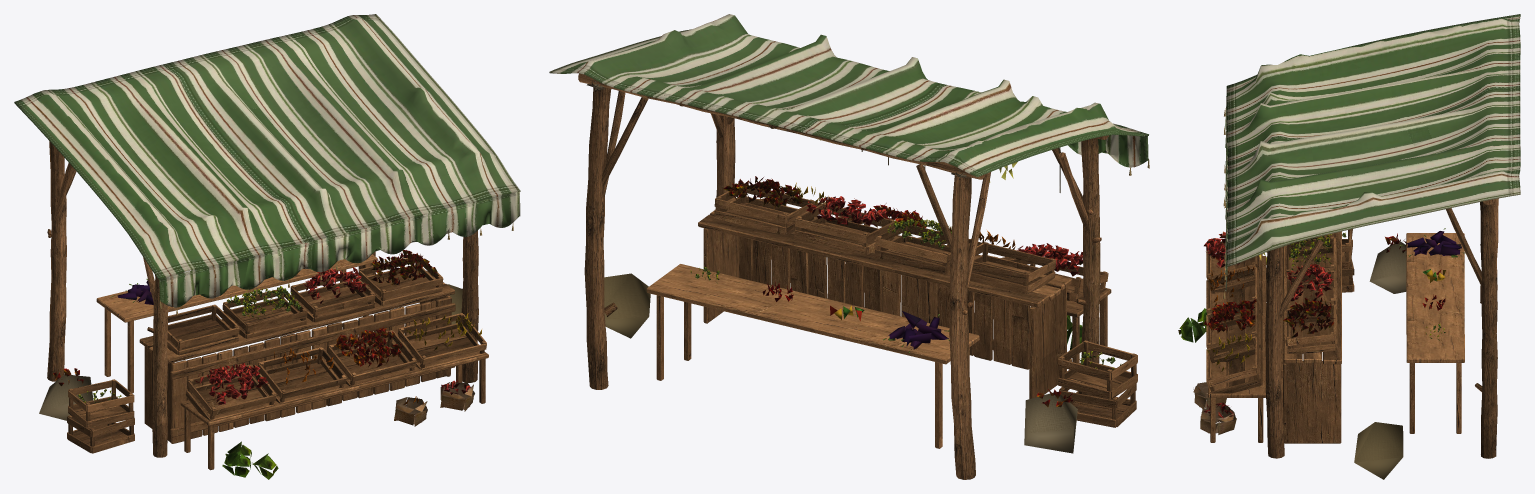
File: village-kiosk-4-v5-lite.glb
3 renders of one model, left to right at view 1: azimuth 30°, elevation 25°; view 2: azimuth 150°, elevation 25°; view 3: azimuth 270°, elevation 25°, orthographic. The views are drawn at different scales.
Parts seen in each view (by area): view 1: K4_Cloth, K4_Wood, K4_Props, K4_Bark, K4_Sack; view 2: K4_Wood, K4_Cloth, K4_Bark, K4_Props, K4_Sack; view 3: K4_Cloth, K4_Wood, K4_Bark, K4_Props, K4_Sack.
Part boxes in pixels (x1,y1,x2,y2): K4_Cloth: (14, 14, 520, 307); K4_Wood: (67, 254, 488, 470); K4_Props: (53, 223, 513, 479); K4_Bark: (47, 141, 478, 457); K4_Sack: (39, 284, 462, 423); K4_Wood: (646, 183, 1137, 448); K4_Cloth: (549, 14, 1148, 176); K4_Bark: (578, 73, 1108, 479); K4_Props: (587, 80, 1149, 407); K4_Sack: (604, 273, 1077, 453); K4_Cloth: (1225, 14, 1520, 291); K4_Wood: (1206, 229, 1464, 443); K4_Bark: (1265, 198, 1498, 458); K4_Props: (1178, 108, 1465, 434); K4_Sack: (1354, 240, 1406, 479).
Bounding box in the file's own units: 4.7 × 3.02 × 3.23.
5 materials, 5 textured.
